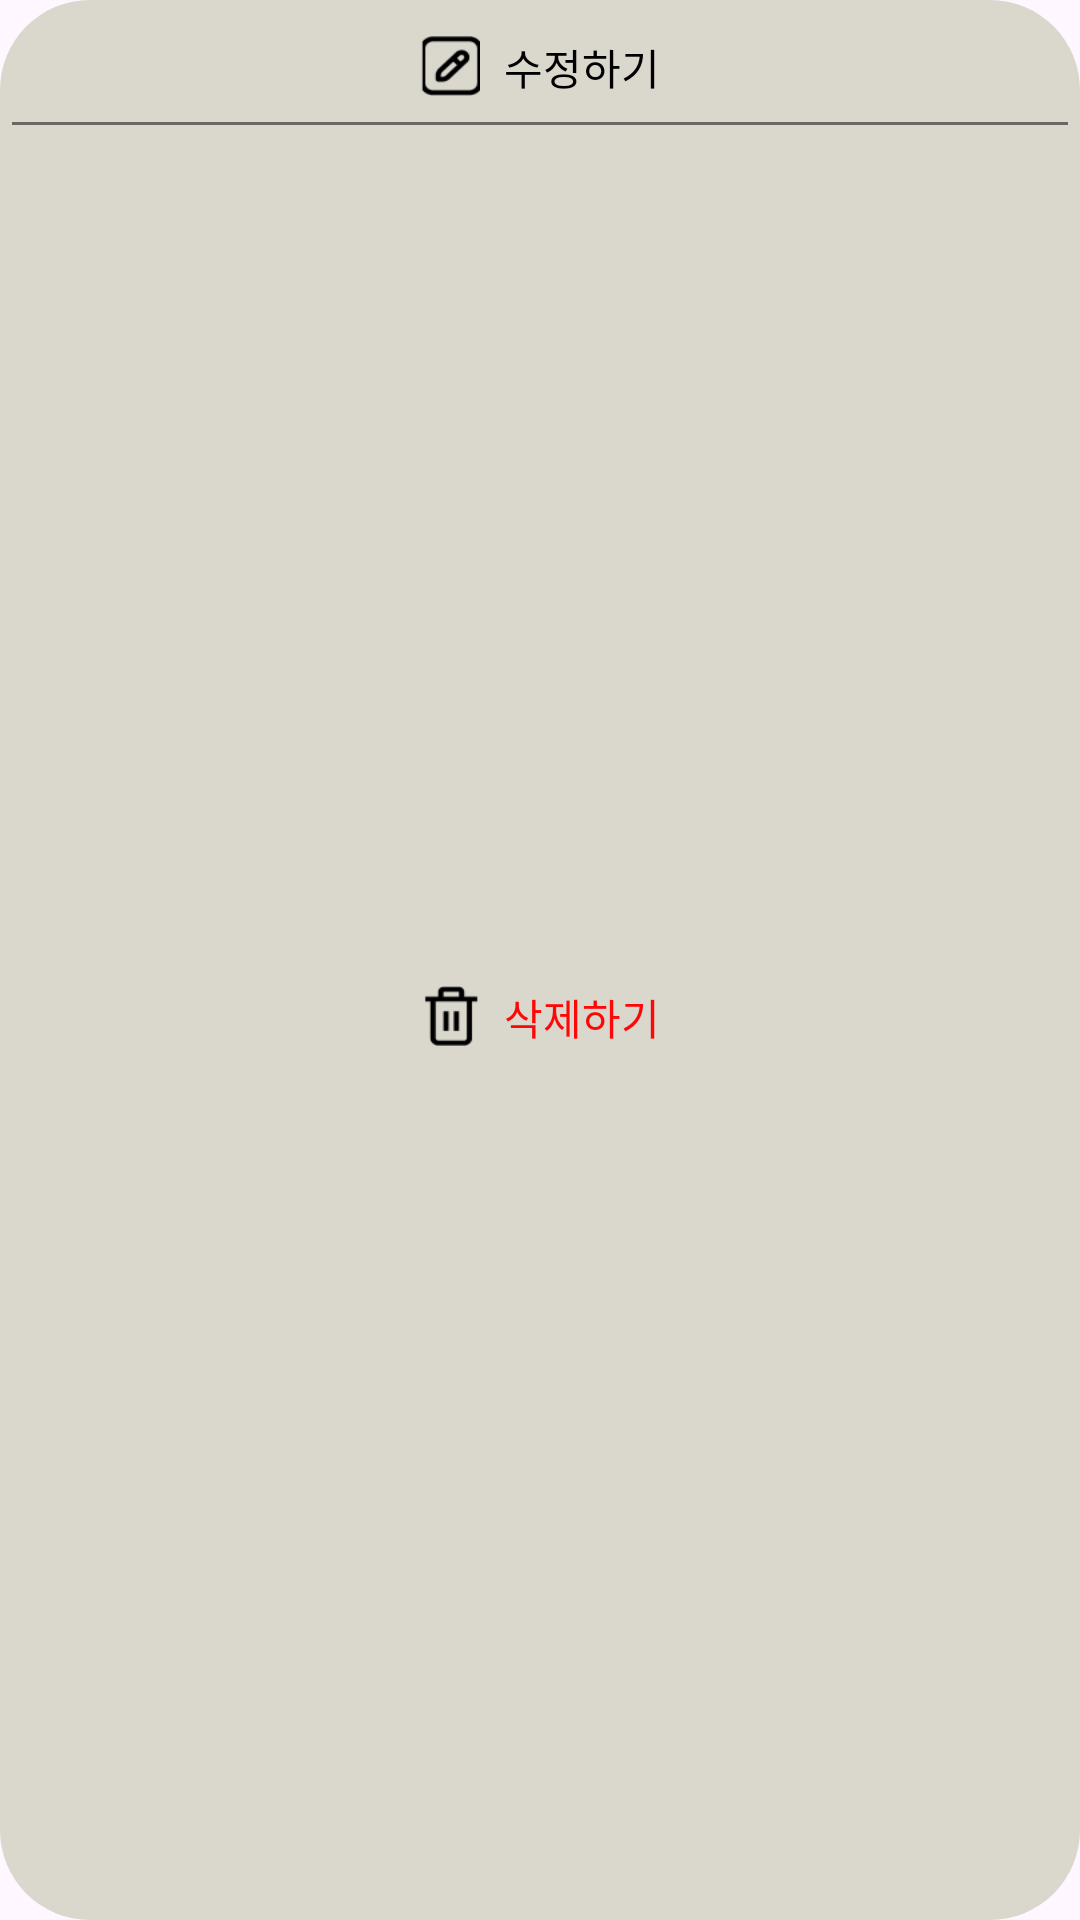

Locate icon controls on the screen. Image size 1080x1920, boxes as (x1, y1, x2, y2).
dosage trash: (425, 986, 478, 1046)
